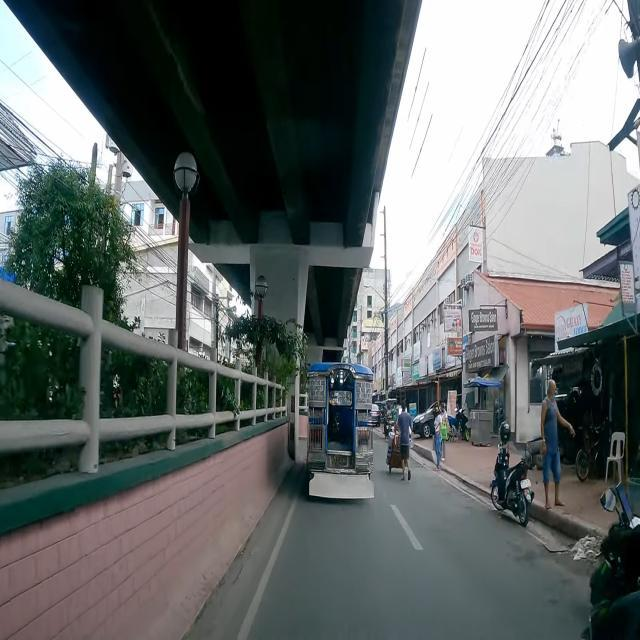car: (412, 399, 448, 439), (372, 404, 380, 426)
jeepney: (306, 362, 375, 500)
motorcycle: (488, 421, 536, 528), (576, 415, 616, 483), (446, 407, 469, 442)
tricycle: (384, 398, 411, 442)
